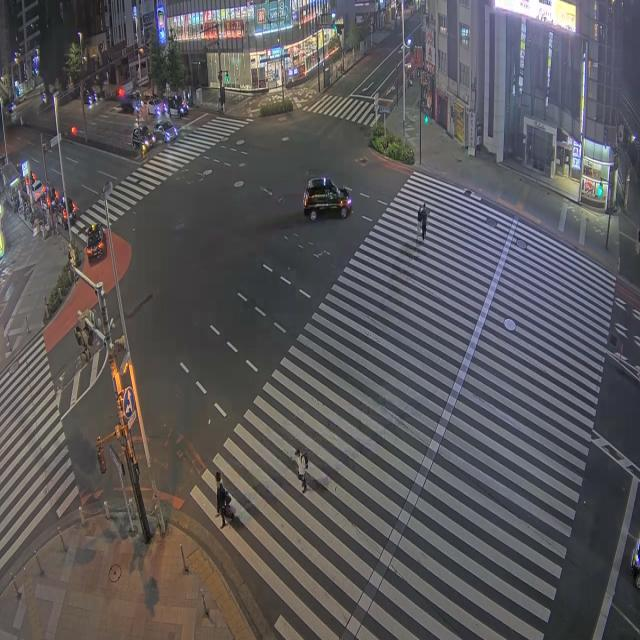car: (303, 178, 351, 221), (52, 192, 77, 228), (86, 224, 105, 262), (132, 126, 156, 152), (153, 120, 177, 142), (167, 95, 188, 117), (147, 98, 167, 116), (32, 181, 45, 201), (83, 87, 96, 105)
motorcycle: (224, 492, 234, 520)
